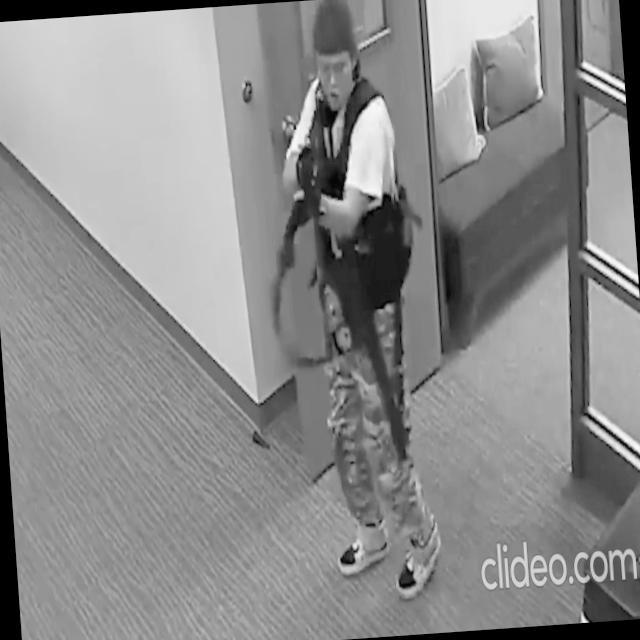gun: (329, 211, 422, 464), (294, 136, 326, 222)
person with a gun: (269, 0, 446, 605)
